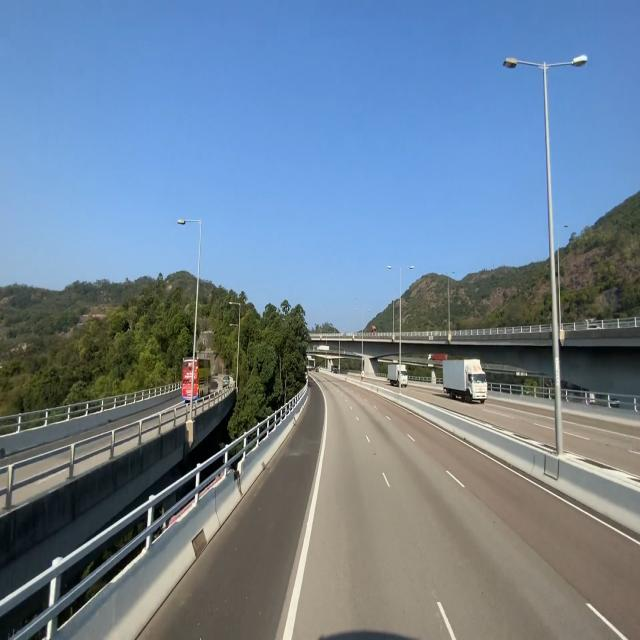Car: (444, 357, 488, 408), (180, 357, 213, 403), (386, 362, 410, 389)
